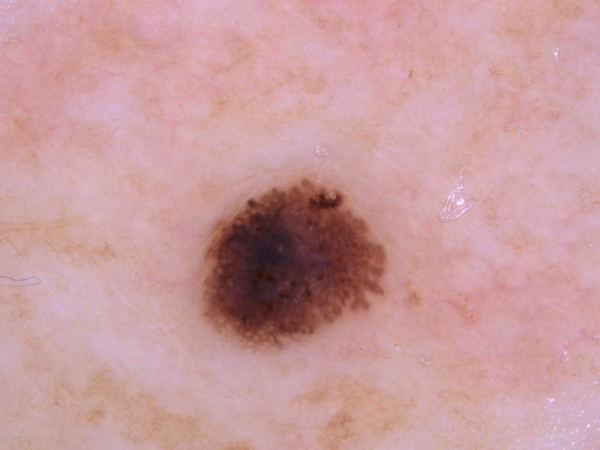Detected Lesion: (193, 173, 396, 352)
